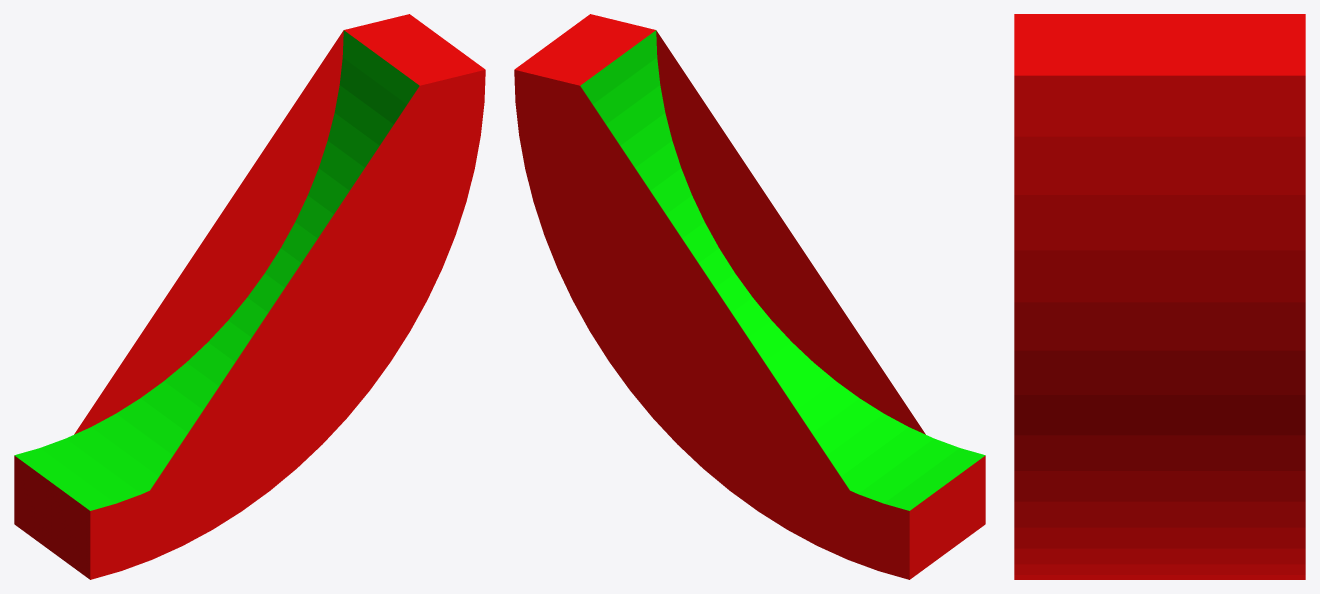
File: Segments_Basic_NEW.fbx
The picture shows the model from 3 angles, left to right: view 1: azimuth 30°, elevation 25°; view 2: azimuth 150°, elevation 25°; view 3: azimuth 270°, elevation 25°; orthographic projection. The views are drawn at different scales.
Visible parts, largest first — view 1: Up_1; view 2: Up_1; view 3: Up_1.
Boxes of the visible parts, <box> form: Up_1: <box>14,14,485,579</box>; Up_1: <box>514,14,985,579</box>; Up_1: <box>1014,14,1305,579</box>.
Bounding box in the file's own units: 600 × 600 × 200.
